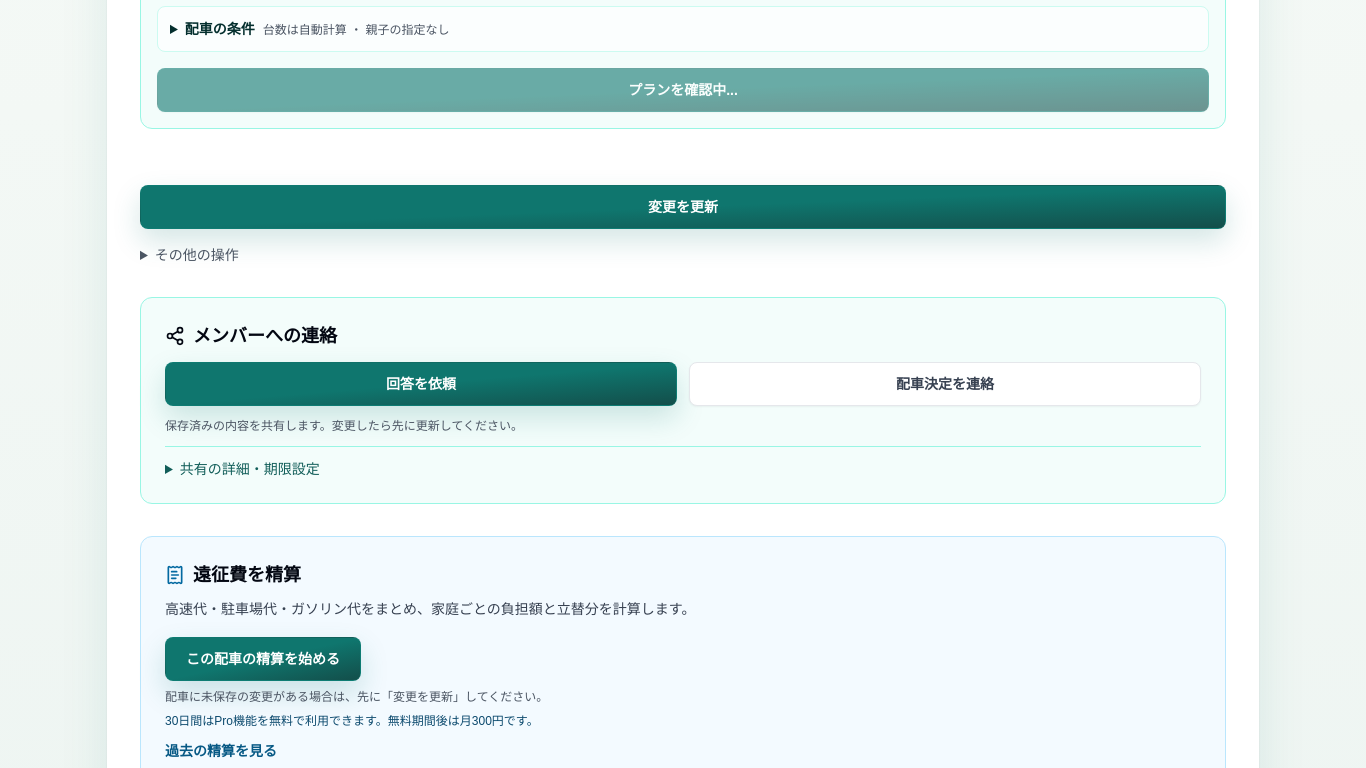
Test: 決定連絡は配車確認画面へ案内し、プレビューだけで更新を実行しない
The image size is (1366, 768).
(page scrolled)
Step 1. Click the button "配車決定を連絡" → (945, 384), box [689,362,1201,406]
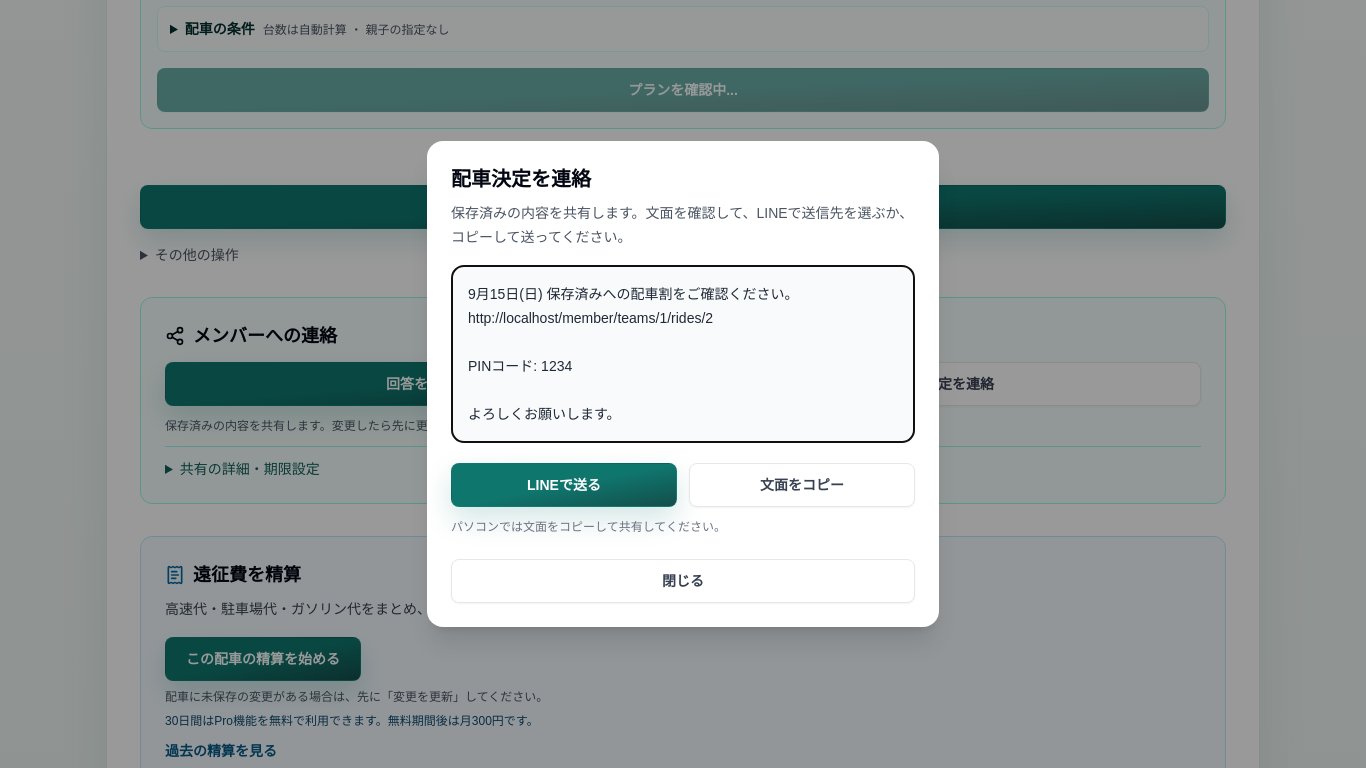
Check: the text named "共有する文面" shows "/member/teams/1/rides/2", box [468,286,799,422]
